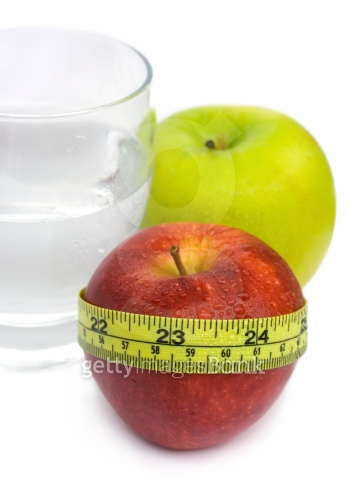glass of water: (1, 25, 166, 371)
